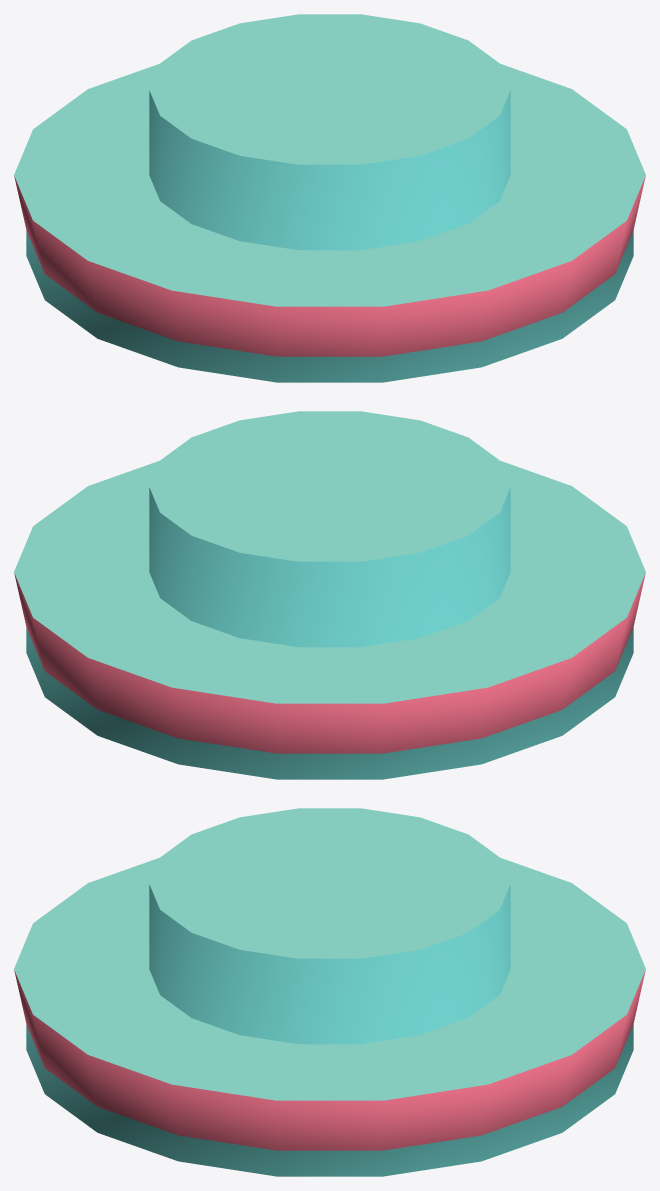
Rendered from stand.fbx.
The picture shows the model from 3 angles, top to bottom: view 1: azimuth 30°, elevation 25°; view 2: azimuth 150°, elevation 25°; view 3: azimuth 270°, elevation 25°; orthographic projection.
Visible parts, largest first — view 1: Circle; view 2: Circle; view 3: Circle.
Boxes of the visible parts, left/top/right/bottom form: Circle: left=14, top=14, right=645, bottom=382; Circle: left=14, top=411, right=645, bottom=779; Circle: left=14, top=808, right=645, bottom=1176.
Size of the model in its own units: 522 by 154 by 530.
